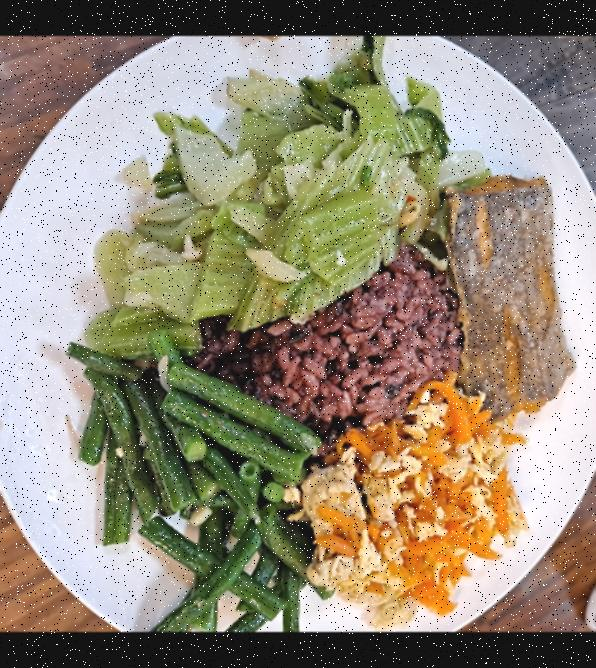pan fried fish fillet: (438, 169, 588, 428)
plate: (0, 36, 596, 632)
purple rice: (237, 249, 478, 448)
side dish: (84, 54, 456, 346), (66, 338, 328, 624), (306, 393, 534, 624)
